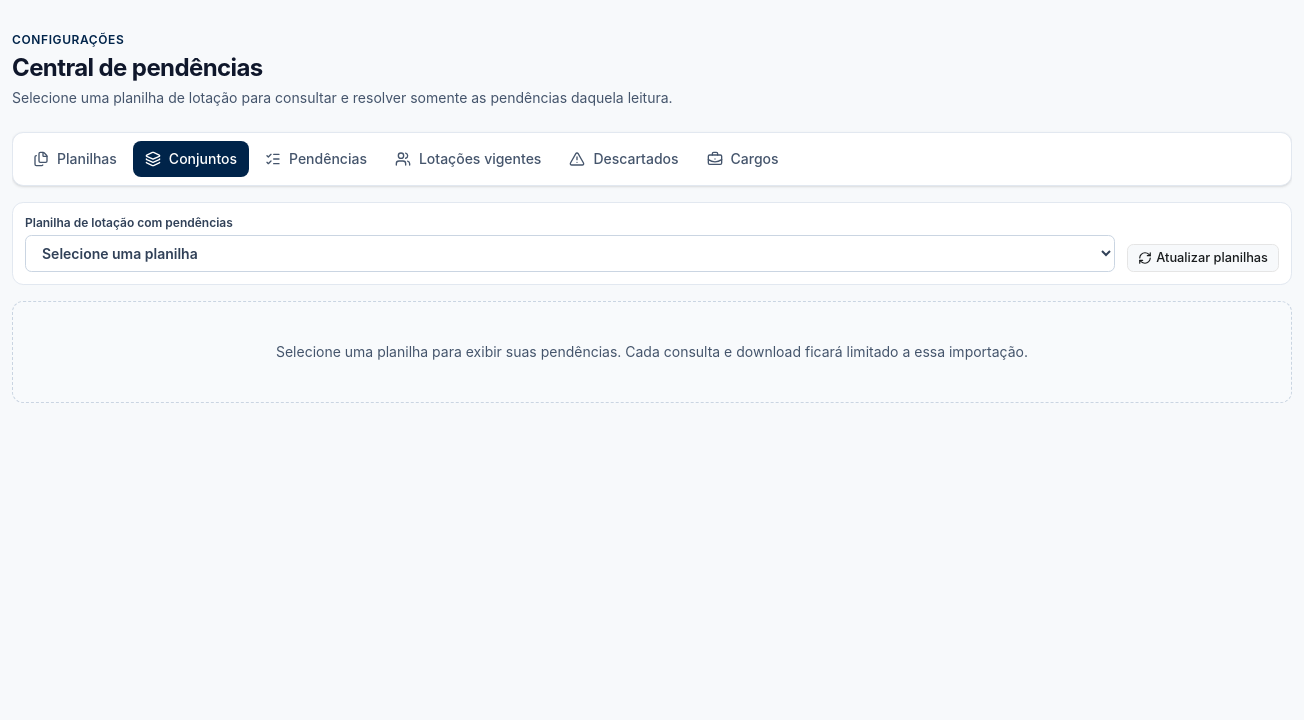
Test: operações de lotação › consulta a central de pendências com o patriarca e status pendente
Select "Lotação outubro · lotacoes.xlsx · 2 pendência(s)" in the dropdown labelled "Planilha de lotação com pendências" at point(570, 254), box [25, 235, 1115, 272]
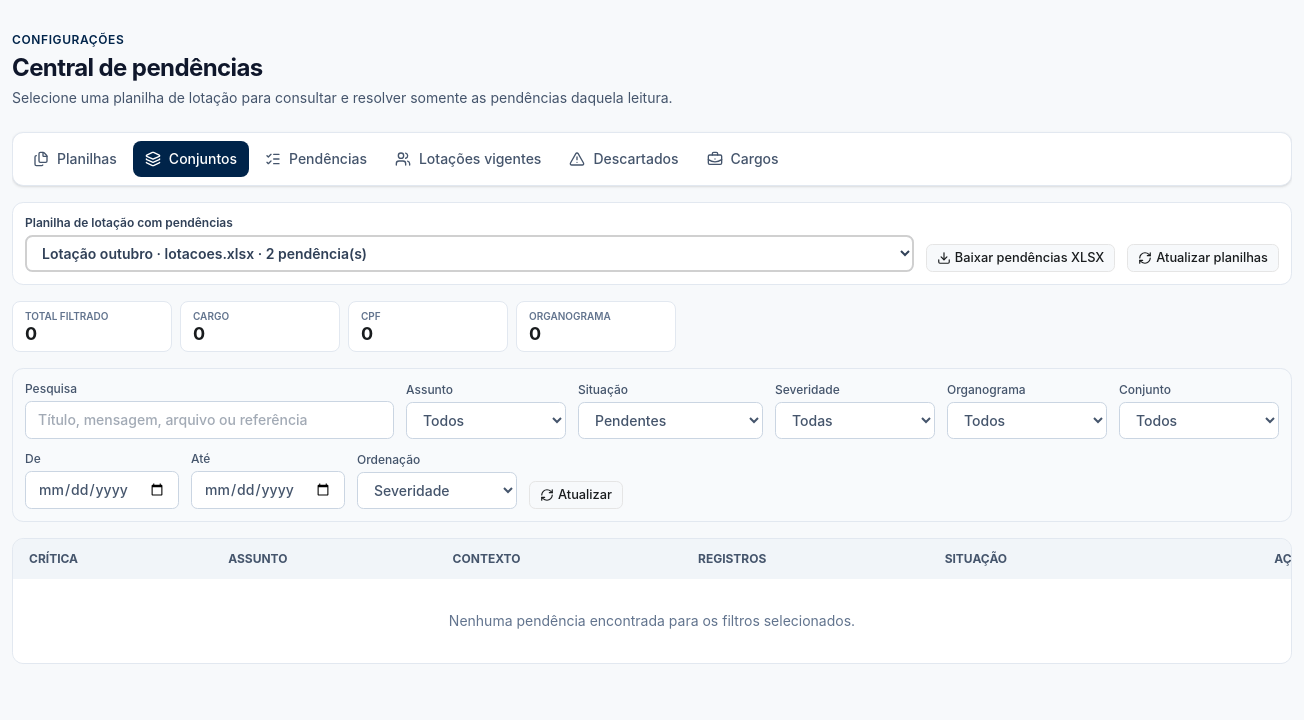
Expected: the text "Nenhuma pendência encontrada para os filtros selecionados." is shown, [449, 612, 855, 628]
